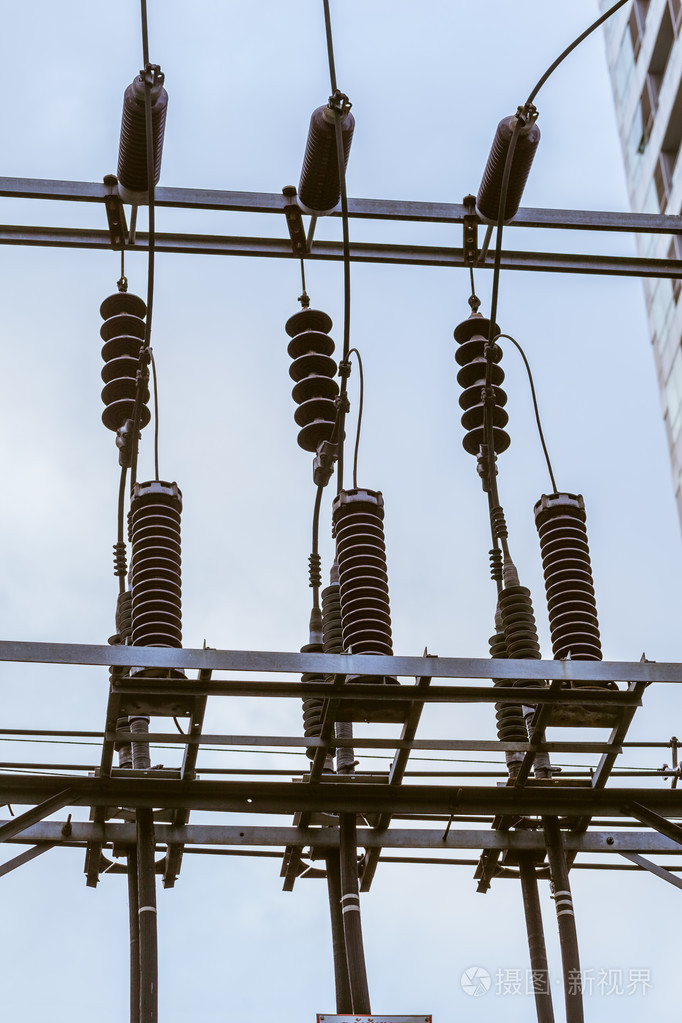insulator: (328, 505, 404, 660), (125, 498, 186, 655), (543, 513, 603, 667), (283, 309, 349, 446), (450, 318, 513, 457), (97, 289, 149, 433), (297, 109, 362, 210), (476, 123, 541, 217), (118, 82, 171, 193), (498, 582, 549, 674), (484, 635, 523, 753), (296, 638, 334, 741), (316, 587, 346, 653)
